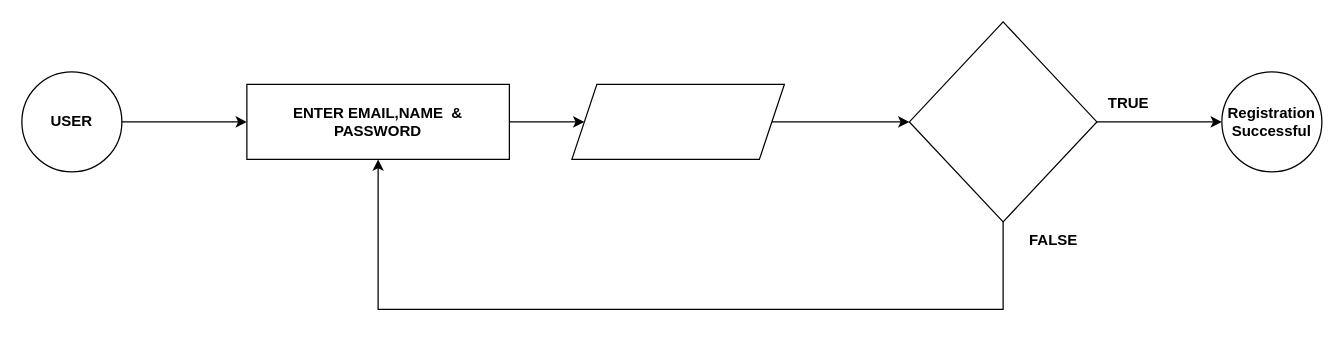
The diagram is 1344 pixels wide and 341 high, and some of its shapes have lost their labels. The shapes that lost their labels are listed below. From the top down, each one's centre as x and y in pixels, then its label:
point 677,121: RegEx validation
point 1002,121: If Validation Successfull
